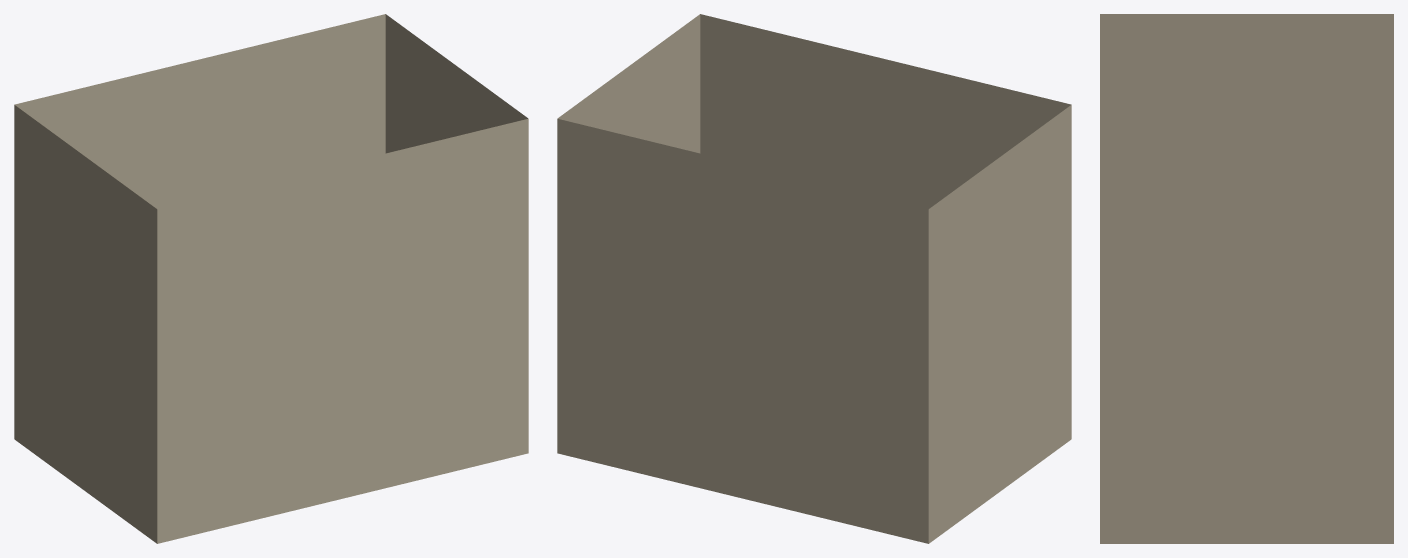
File: 0296-Buildings-shell-pieces-facade-bay-wall-round-an-opening-reveals-sill-head-emitBa.glb
3 views of the same model, side by side, from view 1: azimuth 30°, elevation 25°; view 2: azimuth 150°, elevation 25°; view 3: azimuth 270°, elevation 25° (orthographic). The views are drawn at different scales.
Visible parts, largest first — view 1: emitBay; view 2: emitBay; view 3: emitBay.
Boxes of the visible parts, x1=… form: emitBay: x1=14, y1=14, x2=528, y2=543; emitBay: x1=557, y1=14, x2=1071, y2=543; emitBay: x1=1100, y1=14, x2=1393, y2=543.
Size of the model in its own units: 18 by 15.5 by 12.
